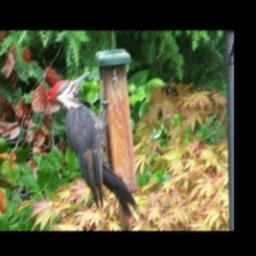Woodpecker: (46, 70, 140, 220)
